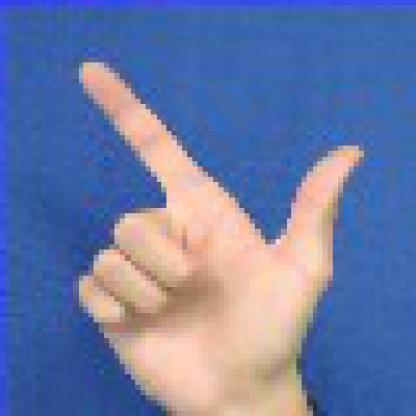seven: (52, 41, 369, 410)
